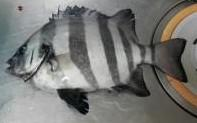fish: (7, 4, 189, 115)
